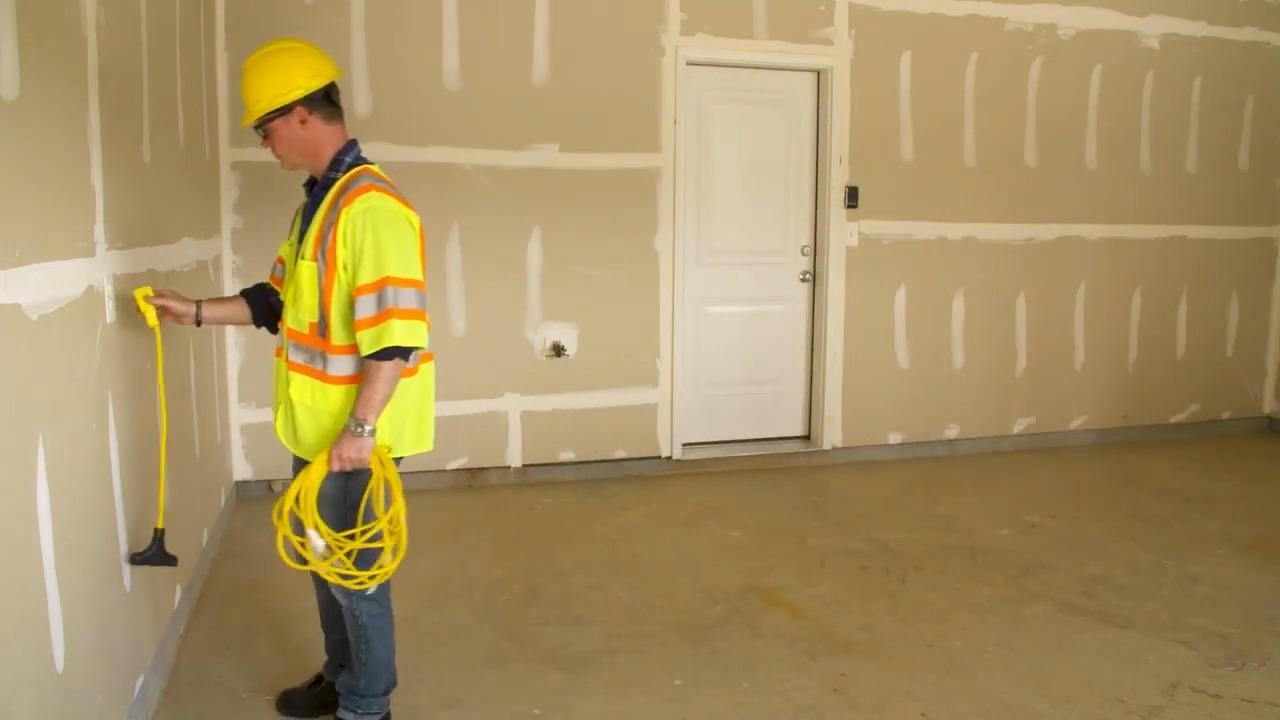Helmet: (238, 42, 339, 128)
Person: (141, 38, 433, 720)
Safety Boot: (267, 670, 387, 719)
Safety Vest: (272, 173, 436, 459)
bare-arms: (128, 278, 204, 327), (328, 416, 377, 474)
